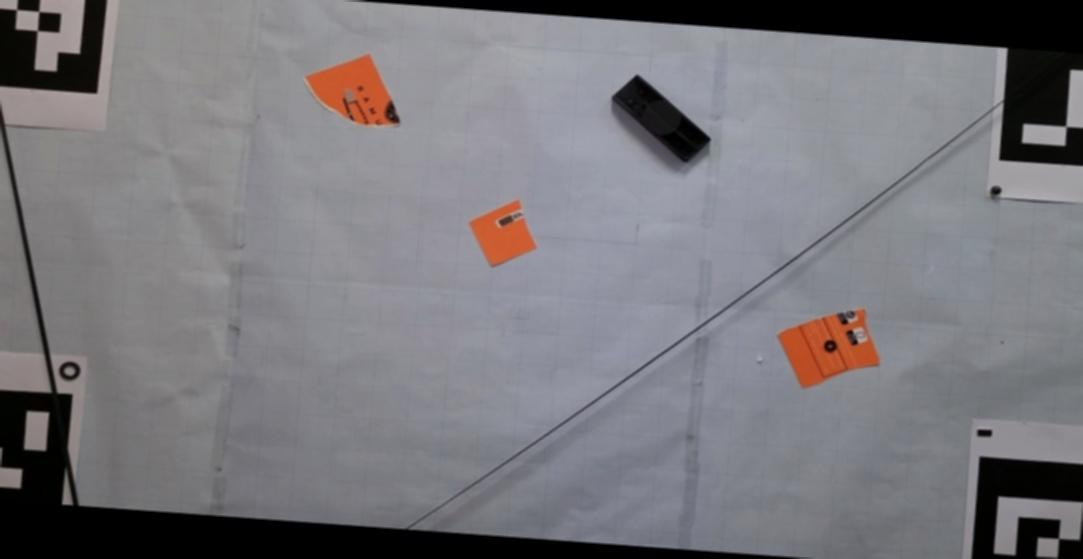obstacle: (610, 73, 712, 164), (777, 308, 880, 389), (306, 54, 400, 128), (470, 199, 537, 267)
